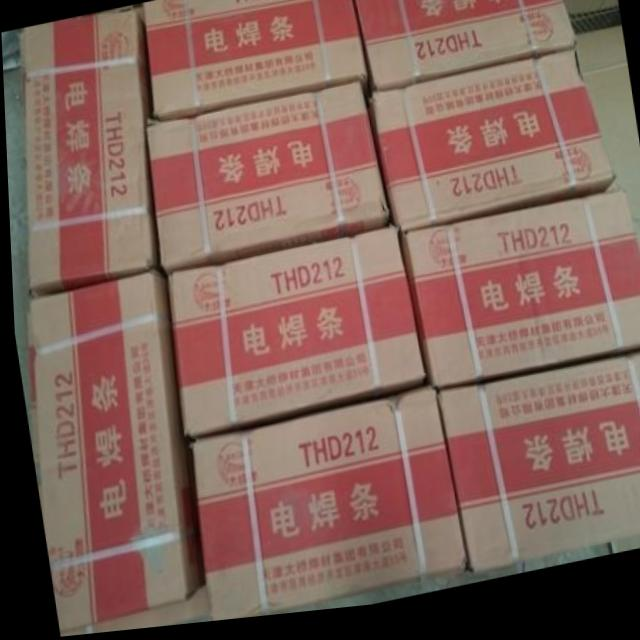box: (186, 392, 462, 625), (25, 274, 199, 632), (165, 234, 422, 445), (396, 199, 640, 399), (144, 87, 387, 280), (431, 363, 640, 582), (367, 59, 614, 241), (20, 5, 158, 296), (142, 0, 368, 126), (353, 0, 578, 99)
